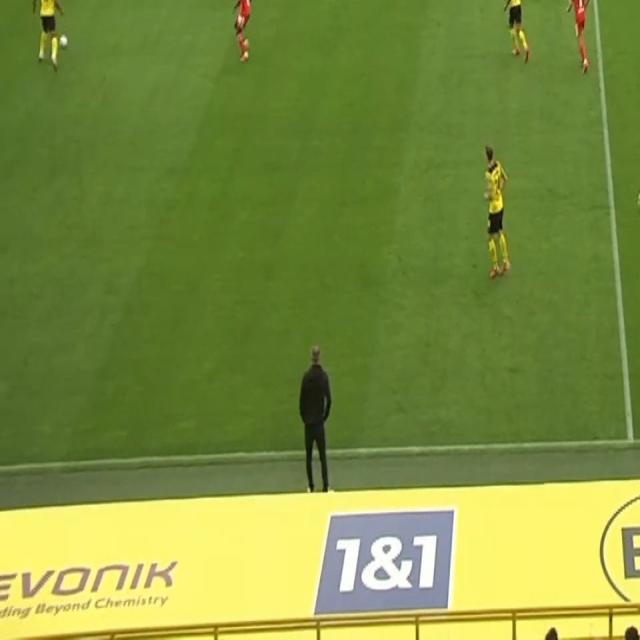ball: (58, 33, 69, 51)
